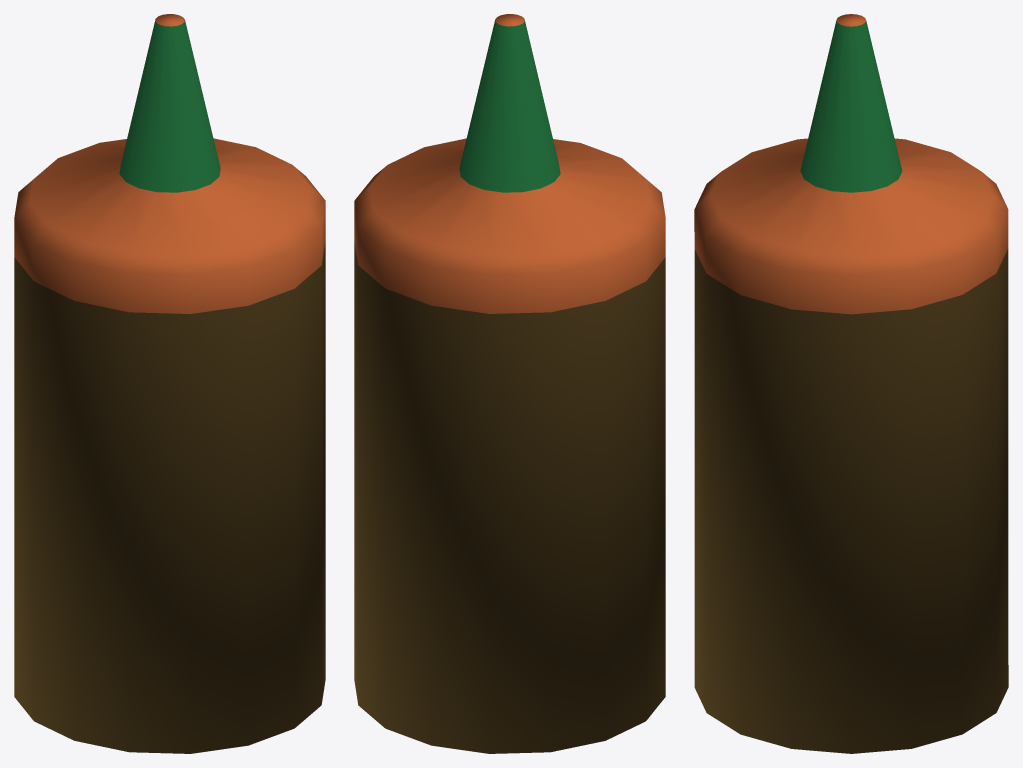
The model's file is Condiment - Ketchup.fbx.
The picture shows the model from 3 angles, left to right: view 1: azimuth 30°, elevation 25°; view 2: azimuth 150°, elevation 25°; view 3: azimuth 270°, elevation 25°; orthographic projection.
Visible parts, largest first — view 1: Condiment; view 2: Condiment; view 3: Condiment.
Part boxes in pixels (box(x1,y1,x2,y2)): Condiment: box(14, 14, 325, 753); Condiment: box(354, 14, 665, 753); Condiment: box(694, 14, 1008, 753).
Bounding box in the file's own units: 18.2 × 42.71 × 18.21.
